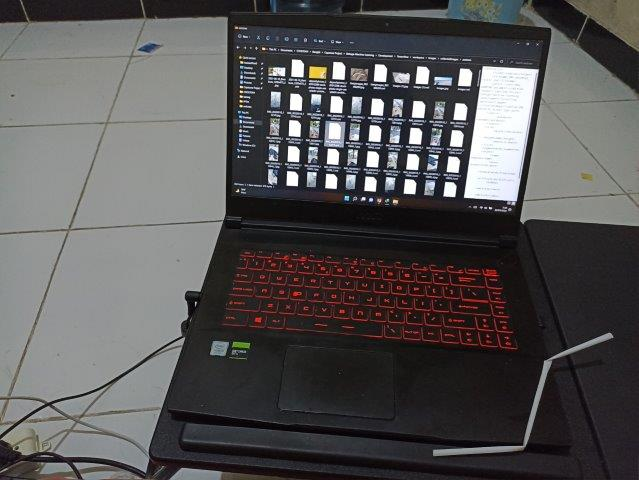sedotan: (433, 334, 614, 456)
